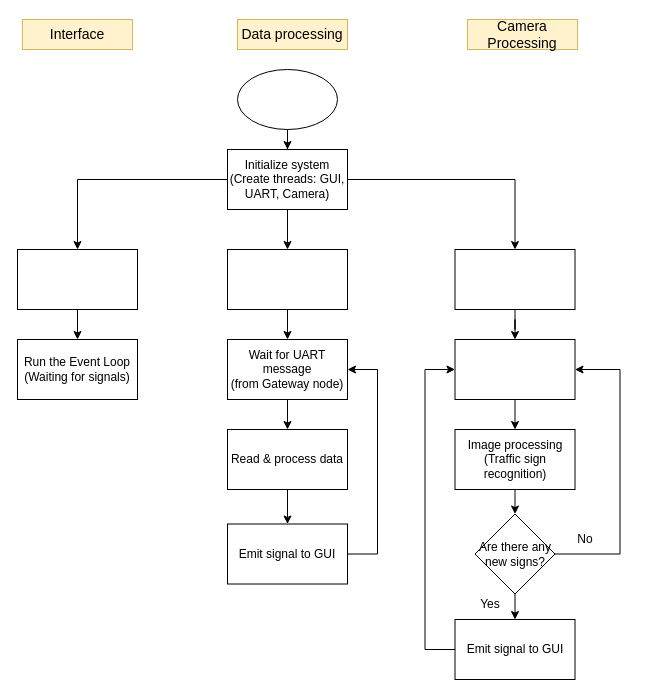
Some shapes in this 646 by 697 pixel diagram are drawn without their labels. The shapes that lost their labels are listed below. From the top down, each one's centre as x and y in pixels, then its label:
At (287,99): "Start".
At (77,279): "Launch the interface".
At (287,279): "Initialize UART".
At (514,279): "Initialize camera".
At (514,369): "Continuous frame capture".
